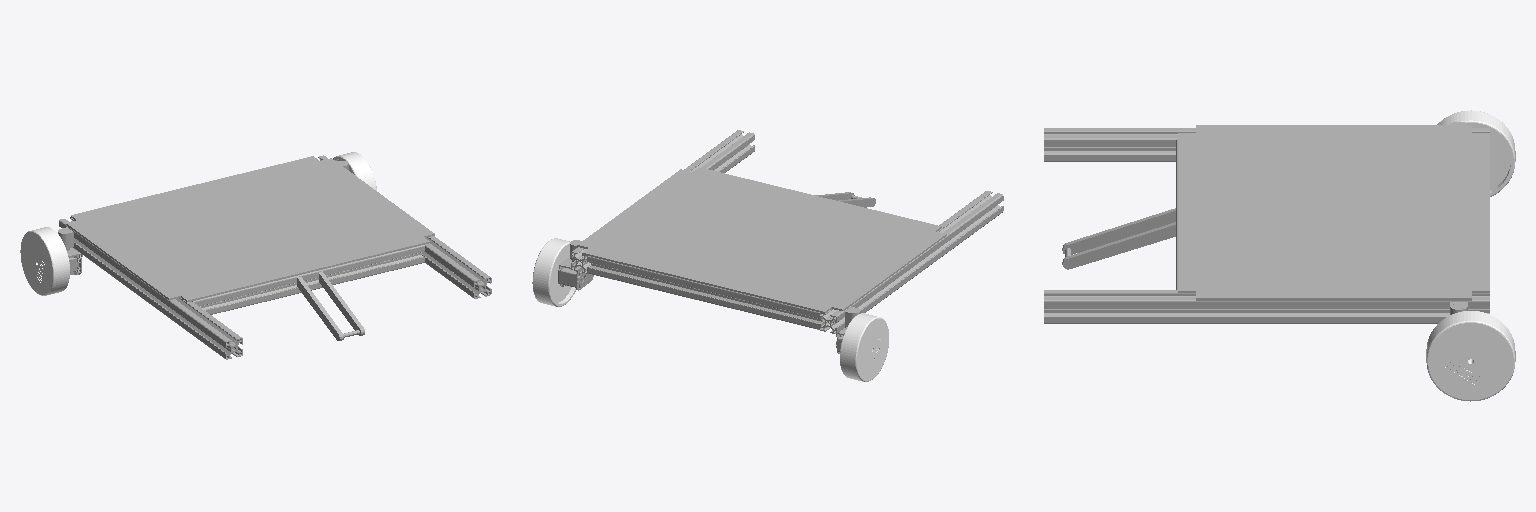
The robot description file, URDF, robot "assembly":
<?xml version="1.0" encoding="utf-8"?>
<!-- This URDF was automatically created by SolidWorks to URDF Exporter! Originally created by [author] ([email redacted]) 
     Commit Version: 1.5.1-0-g916b5db  Build Version: 1.5.7152.31018
     For more information, please see http://wiki.ros.org/sw_urdf_exporter -->
<robot
  name="assembly">
  <link
    name="base_link">
    <inertial>
      <origin
        xyz="0.0276418278157165 0.0312550060354525 0.472599056033966"
        rpy="0 0 0" />
      <mass
        value="2.26299534521544" />
      <inertia
        ixx="0.0236090944163617"
        ixy="3.29690604315043E-08"
        ixz="-3.88236280184983E-19"
        iyy="0.0424983502674055"
        iyz="1.27406422046983E-05"
        izz="0.0191899669560079" />
    </inertial>
    <visual>
      <origin
        xyz="0 0 0"
        rpy="0 0 0" />
      <geometry>
        <mesh
          filename="package://assembly/meshes/base_link.STL" />
      </geometry>
      <material
        name="">
        <color
          rgba="0.752941176470588 0.752941176470588 0.752941176470588 1" />
      </material>
    </visual>
    <collision>
      <origin
        xyz="0 0 0"
        rpy="0 0 0" />
      <geometry>
        <mesh
          filename="package://assembly/meshes/base_link.STL" />
      </geometry>
    </collision>
  </link>
  <link
    name="Front">
    <inertial>
      <origin
        xyz="0.471893416657868 0.0277155413896794 0.0227900815732691"
        rpy="0 0 0" />
      <mass
        value="2.88817755663864" />
      <inertia
        ixx="0.095786609741294"
        ixy="-7.58376179970651E-05"
        ixz="-0.000342341587530407"
        iyy="0.0811229181644325"
        iyz="5.05012057278064E-06"
        izz="0.173772438369506" />
    </inertial>
    <visual>
      <origin
        xyz="0 0 0"
        rpy="0 0 0" />
      <geometry>
        <mesh
          filename="package://assembly/meshes/Front.STL" />
      </geometry>
      <material
        name="">
        <color
          rgba="1 1 1 1" />
      </material>
    </visual>
    <collision>
      <origin
        xyz="0 0 0"
        rpy="0 0 0" />
      <geometry>
        <mesh
          filename="package://assembly/meshes/Front.STL" />
      </geometry>
    </collision>
  </link>
  <joint
    name="F"
    type="continuous">
    <origin
      xyz="0 0 0"
      rpy="0 0 -1.5708" />
    <parent
      link="base_link" />
    <child
      link="Front" />
    <axis
      xyz="0 1 0" />
    <limit
      effort="0"
      velocity="0" />
  </joint>
  <link
    name="Left">
    <inertial>
      <origin
        xyz="0.296888127665138 0.295984366114182 -0.007957437142839"
        rpy="0 0 0" />
      <mass
        value="0.193332140392744" />
      <inertia
        ixx="0.000136727340239242"
        ixy="2.71560268218277E-08"
        ixz="-1.40578298137989E-08"
        iyy="0.000252977808750875"
        iyz="-3.82901815421634E-08"
        izz="0.000136735670304281" />
    </inertial>
    <visual>
      <origin
        xyz="0 0 0"
        rpy="0 0 0" />
      <geometry>
        <mesh
          filename="package://assembly/meshes/Left.STL" />
      </geometry>
      <material
        name="">
        <color
          rgba="1 1 1 1" />
      </material>
    </visual>
    <collision>
      <origin
        xyz="0 0 0"
        rpy="0 0 0" />
      <geometry>
        <mesh
          filename="package://assembly/meshes/Left.STL" />
      </geometry>
    </collision>
  </link>
  <joint
    name="L"
    type="continuous">
    <origin
      xyz="0 0 0"
      rpy="0 0 -1.5708" />
    <parent
      link="base_link" />
    <child
      link="Left" />
    <axis
      xyz="0 1 0" />
    <limit
      effort="0"
      velocity="0" />
  </joint>
  <link
    name="Right">
    <inertial>
      <origin
        xyz="0.296881279400685 -0.240853226390767 -0.00796734007692887"
        rpy="0 0 0" />
      <mass
        value="0.193332140392744" />
      <inertia
        ixx="0.000136740693825247"
        ixy="-4.28193963397101E-08"
        ixz="-1.1425434775343E-08"
        iyy="0.000252977808750874"
        iyz="1.92376477870876E-08"
        izz="0.000136722316718276" />
    </inertial>
    <visual>
      <origin
        xyz="0 0 0"
        rpy="0 0 0" />
      <geometry>
        <mesh
          filename="package://assembly/meshes/Right.STL" />
      </geometry>
      <material
        name="">
        <color
          rgba="1 1 1 1" />
      </material>
    </visual>
    <collision>
      <origin
        xyz="0 0 0"
        rpy="0 0 0" />
      <geometry>
        <mesh
          filename="package://assembly/meshes/Right.STL" />
      </geometry>
    </collision>
  </link>
  <joint
    name="R"
    type="continuous">
    <origin
      xyz="0 0 0"
      rpy="0 0 -1.5708" />
    <parent
      link="base_link" />
    <child
      link="Right" />
    <axis
      xyz="0 -1 0" />
    <limit
      effort="0"
      velocity="0" />
  </joint>
</robot>

--- Render facts (derived) ---
3 views of the same robot in one strip: view 1: azimuth 30°, elevation 25°; view 2: azimuth 150°, elevation 25°; view 3: azimuth 270°, elevation 25° (orthographic).
Model assembly with 4 links and 3 joints (3 continuous), rooted at base_link, posed every joint at zero.
Visible links, largest first — view 1: base_link, Right, Left; view 2: base_link, Right, Left; view 3: base_link, Left, Right.
Link boxes in pixels (bbox=[...]): base_link: bbox=[58, 155, 491, 359]; Right: bbox=[20, 227, 69, 295]; Left: bbox=[333, 152, 376, 190]; base_link: bbox=[558, 130, 1003, 353]; Right: bbox=[840, 313, 888, 381]; Left: bbox=[532, 238, 575, 306]; base_link: bbox=[1044, 122, 1489, 324]; Left: bbox=[1426, 311, 1515, 401]; Right: bbox=[1437, 110, 1515, 196].
Size in the robot's own frame: 0.5615 by 0.5286 by 0.1048 metres.
3 mesh visuals loaded from 4 distinct referenced files (3 binary STL); not drawn: 1 (file found but could not be loaded).